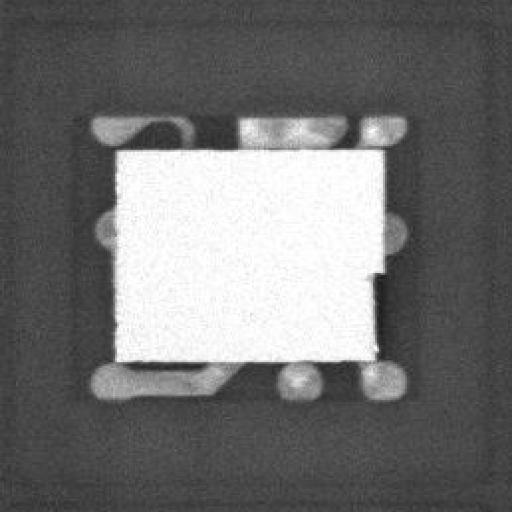DIE_BROKEN: (365, 266, 383, 356)
